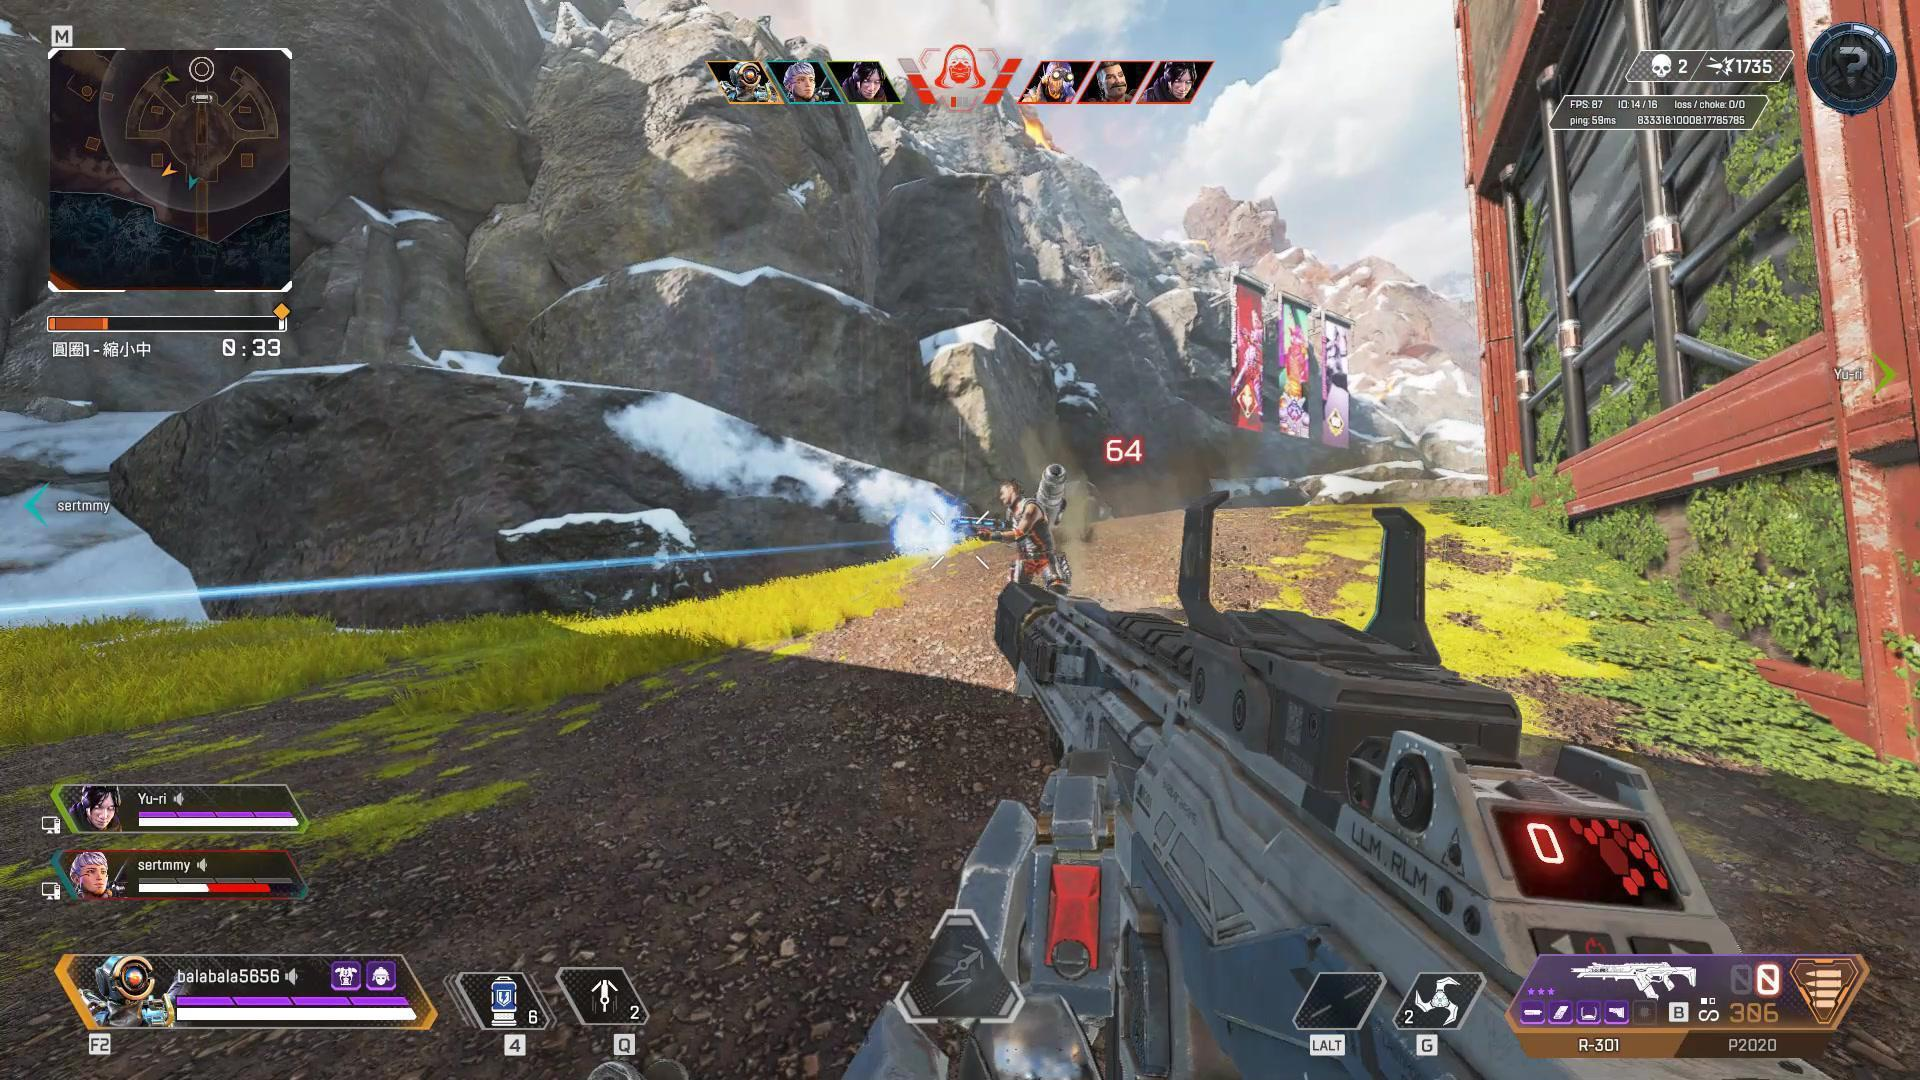avatar: (997, 479, 1072, 589)
